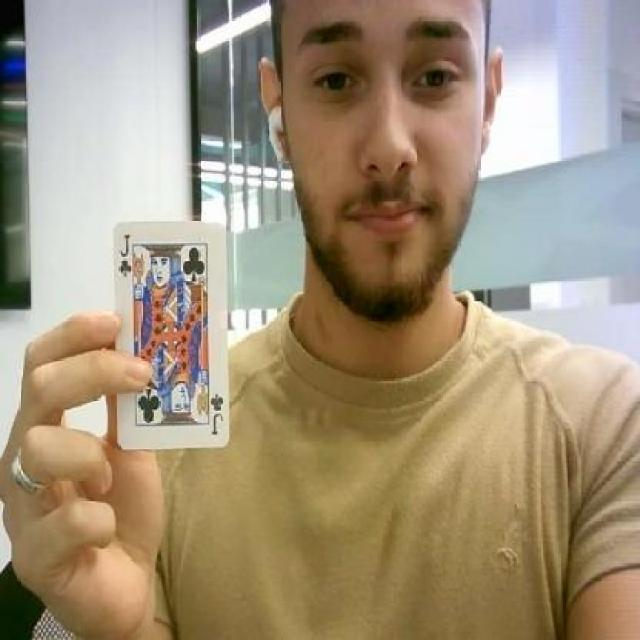JC: (207, 389, 224, 440), (116, 231, 132, 280)
